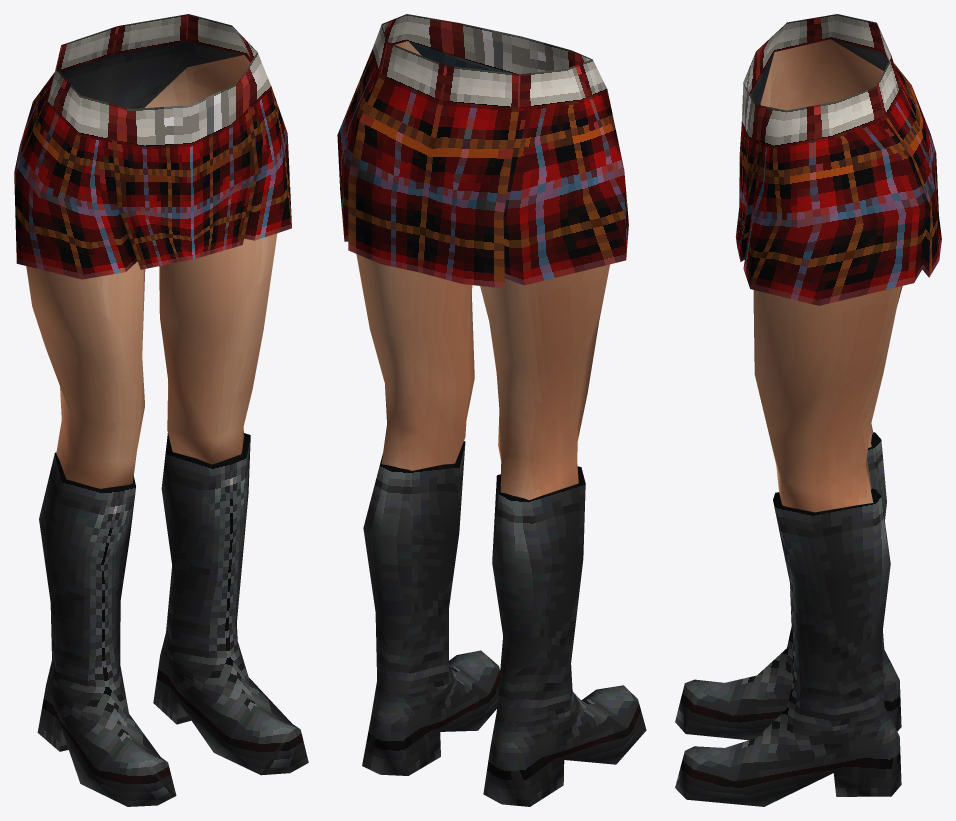
File: f_reg142.glb
3 renders of one model, left to right at view 1: azimuth 30°, elevation 25°; view 2: azimuth 150°, elevation 25°; view 3: azimuth 270°, elevation 25°, orthographic. The views are drawn at different scales.
Bounding box in the file's own units: 45.57 × 110 × 37.92.
2 materials, 2 textured.
